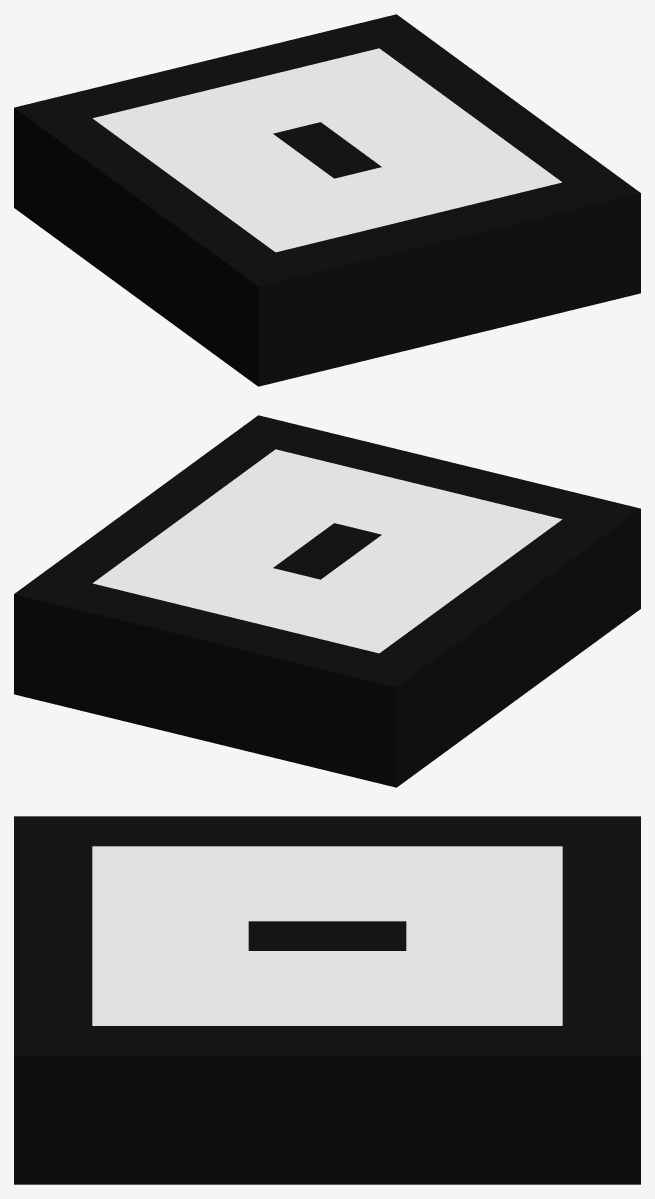
File: Font_Number_0_01.fbx
The picture shows the model from 3 angles, top to bottom: view 1: azimuth 30°, elevation 25°; view 2: azimuth 150°, elevation 25°; view 3: azimuth 270°, elevation 25°; orthographic projection. The views are drawn at different scales.
Visible parts, largest first — view 1: Font_Number_0_01; view 2: Font_Number_0_01; view 3: Font_Number_0_01.
Boxes of the visible parts, left/top/right/bottom form: Font_Number_0_01: left=14, top=14, right=640, bottom=386; Font_Number_0_01: left=14, top=415, right=640, bottom=787; Font_Number_0_01: left=14, top=816, right=640, bottom=1184.
Size of the model in its own units: 77.66 by 19.44 by 85.9.
